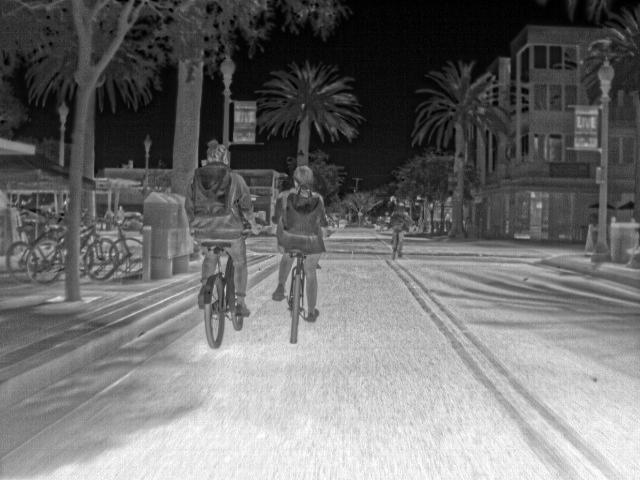person: (189, 143, 253, 289), (275, 163, 318, 310), (391, 200, 411, 232), (116, 204, 126, 225), (444, 211, 454, 222)
